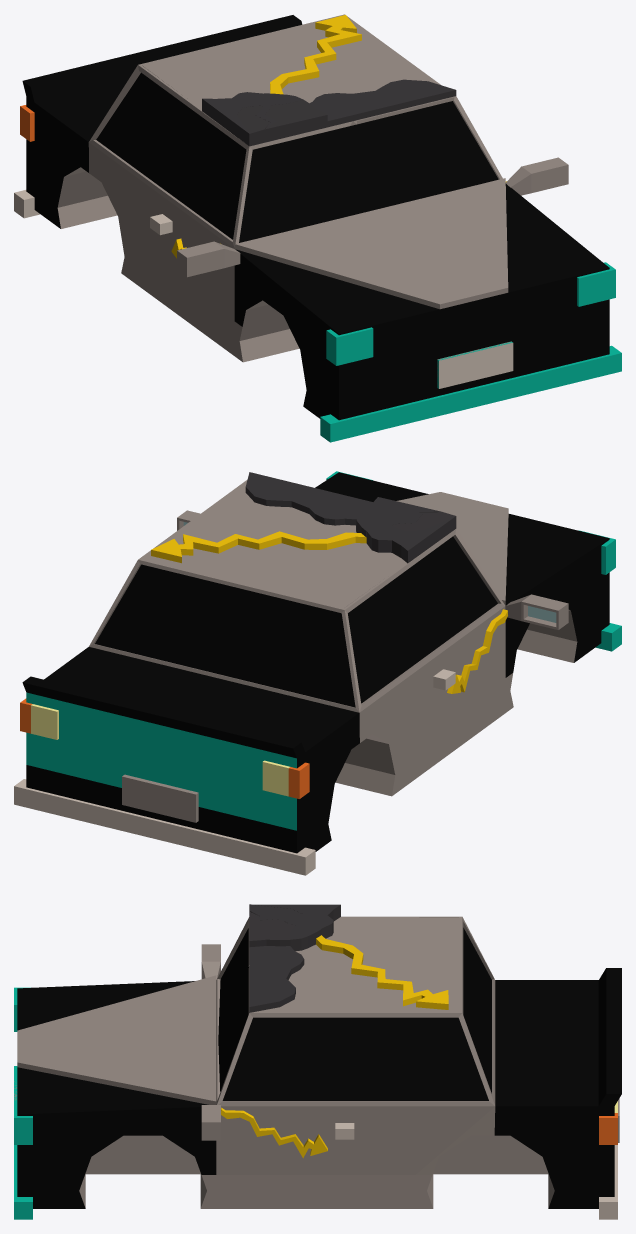
The model's file is CarNb2.fbx.
The picture shows the model from 3 angles, top to bottom: view 1: azimuth 30°, elevation 25°; view 2: azimuth 150°, elevation 25°; view 3: azimuth 270°, elevation 25°; orthographic projection. The views are drawn at different scales.
Parts seen in each view (by area): view 1: 2 Body; view 2: 2 Body; view 3: 2 Body.
Boxes of the visible parts, bbox=[...] form: 2 Body: bbox=[14, 14, 621, 442]; 2 Body: bbox=[14, 471, 621, 875]; 2 Body: bbox=[14, 904, 621, 1219].
Size of the model in its own units: 184 by 96.3 by 266.
